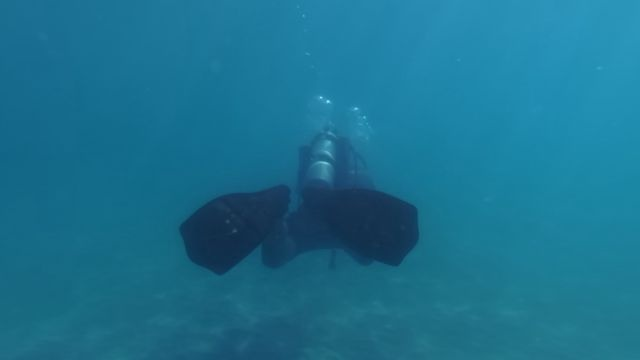Diver: (166, 106, 438, 285)
